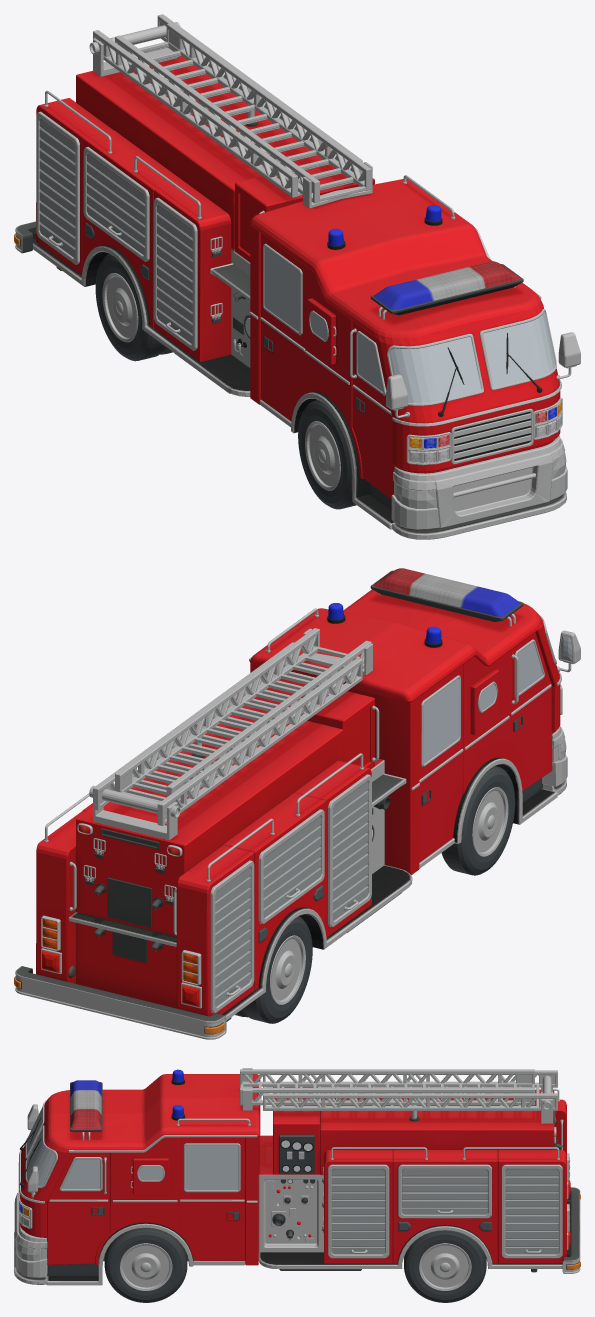
The model's file is fire_trunk.glb.
3 renders of one model, top to bottom at view 1: azimuth 30°, elevation 25°; view 2: azimuth 150°, elevation 25°; view 3: azimuth 270°, elevation 25°, orthographic. The views are drawn at different scales.
Bounding box in the file's own units: 1.88 × 2.3 × 6.06.
1 material, 1 textured.
